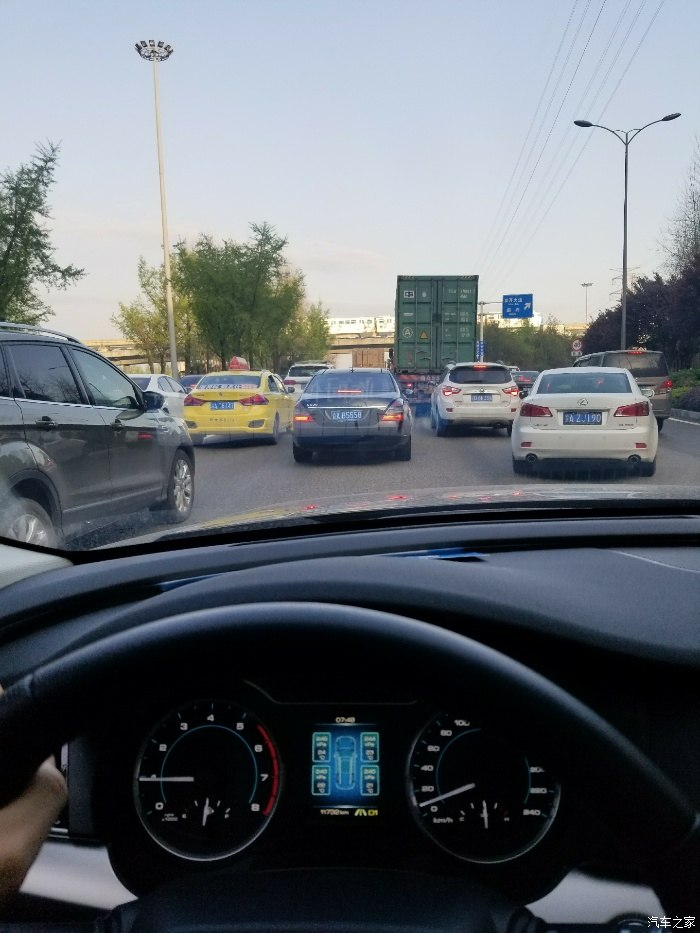car: (1, 321, 186, 534), (526, 372, 660, 474), (182, 363, 291, 463), (293, 361, 398, 461), (433, 368, 520, 443)
